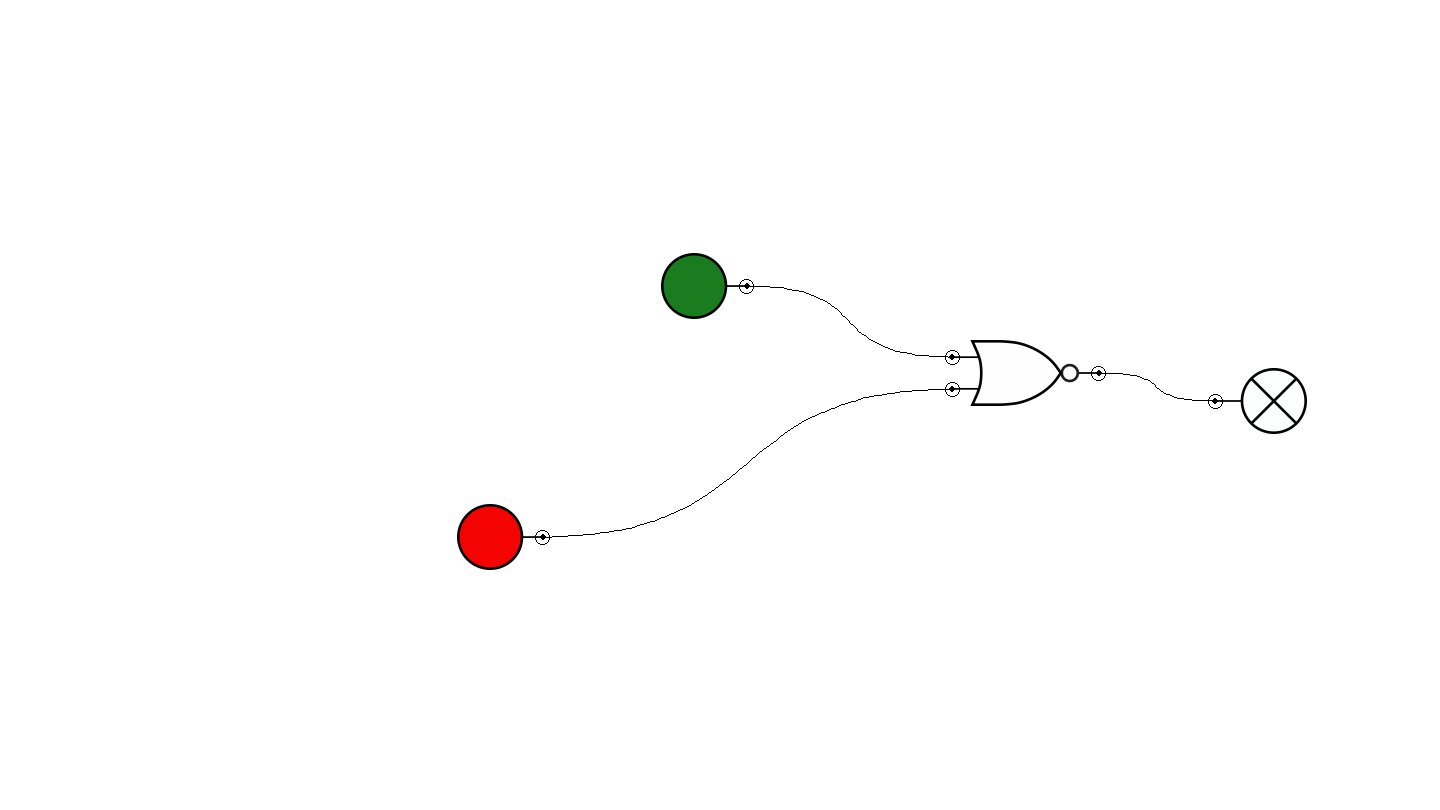bulb: (1208, 368, 1307, 434)
nor: (945, 340, 1106, 406)
switch_False: (457, 504, 550, 570)
switch_True: (661, 253, 754, 319)
